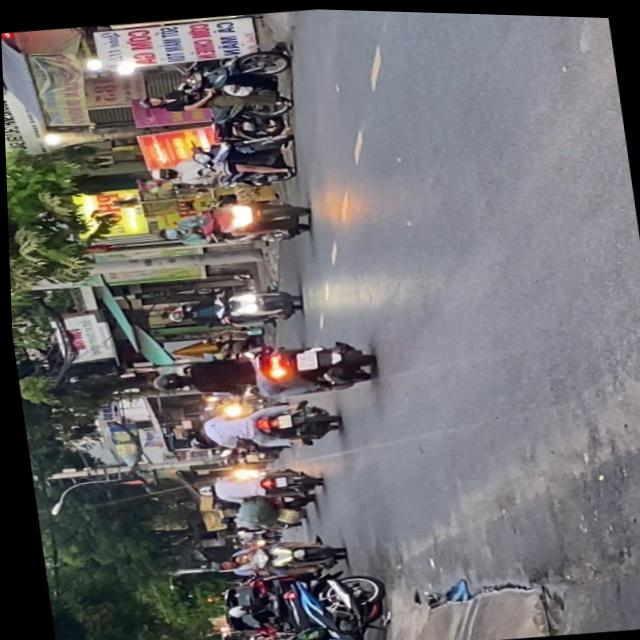helmet: (147, 367, 185, 390), (169, 421, 197, 439), (134, 91, 163, 107), (150, 223, 178, 239), (147, 163, 175, 179)
licenseplate: (143, 327, 375, 409), (164, 390, 339, 457), (146, 188, 314, 253), (143, 127, 300, 196)
nohelmet: (292, 347, 314, 368), (272, 411, 288, 425)
